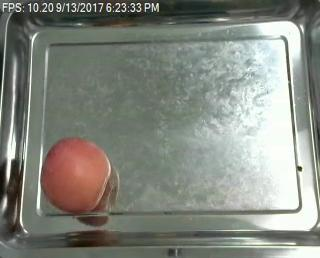apple: (42, 137, 110, 214)
